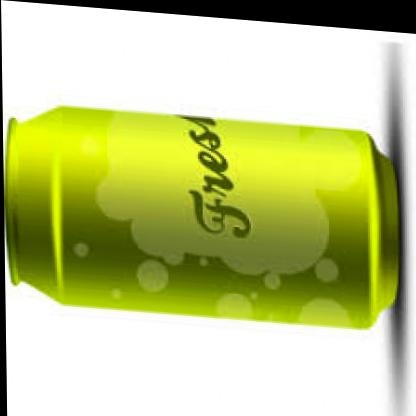trash: (6, 107, 398, 327)
